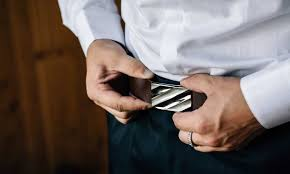F_belt: (111, 69, 255, 122)
